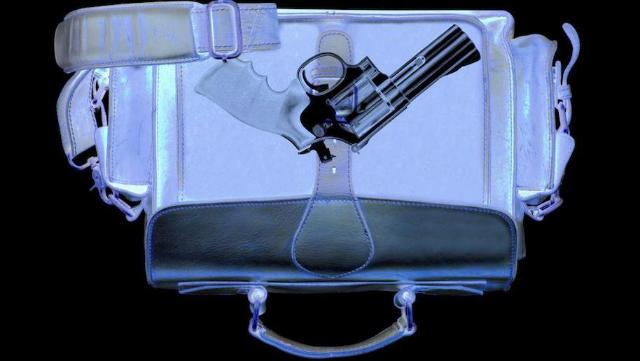Gun: (188, 23, 486, 163)
